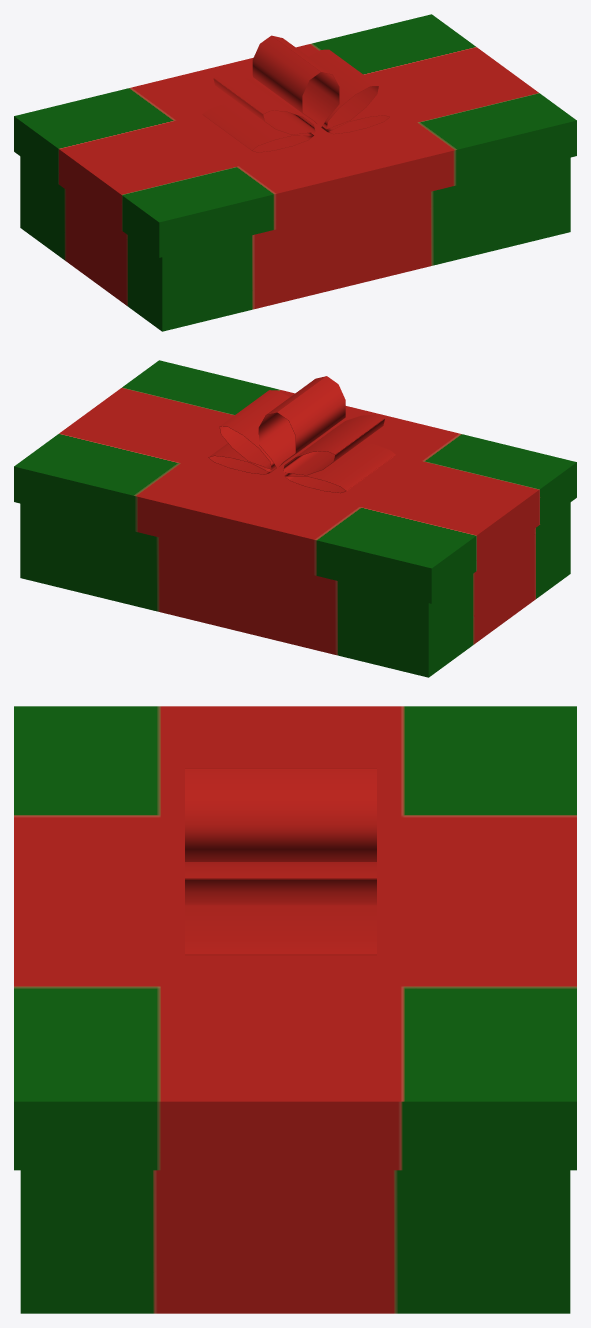
Rendered from present_long_plain_ver3.fbx.
The picture shows the model from 3 angles, top to bottom: view 1: azimuth 30°, elevation 25°; view 2: azimuth 150°, elevation 25°; view 3: azimuth 270°, elevation 25°; orthographic projection. The views are drawn at different scales.
Parts seen in each view (by area): view 1: Top, Box; view 2: Top, Box; view 3: Top, Box.
Boxes of the visible parts, x1,y1,x2,y2 form: Top: (14,14,576,257); Box: (20,156,570,331); Top: (14,360,576,603); Box: (20,502,570,677); Top: (14,706,576,1170); Box: (20,1170,570,1313).
Size of the model in its own units: 17.01 by 6.99 by 10.24.
